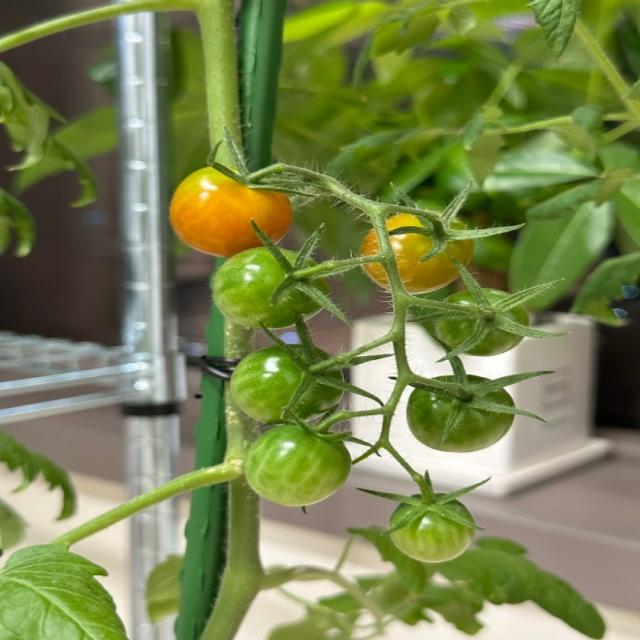level 1: (213, 415, 355, 520), (207, 337, 358, 434), (204, 236, 338, 336), (394, 367, 533, 462), (412, 270, 537, 364)
level 2: (369, 487, 500, 572)
level 5: (157, 150, 299, 273), (346, 204, 472, 308)
